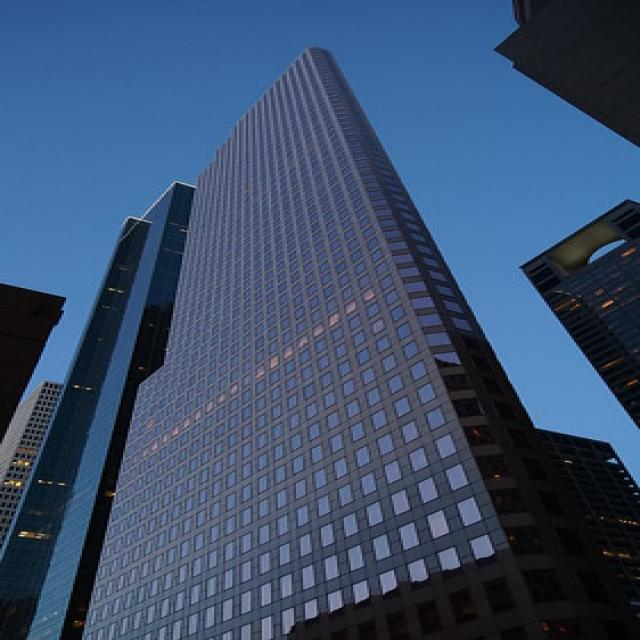Normal_building: (27, 48, 639, 640)
